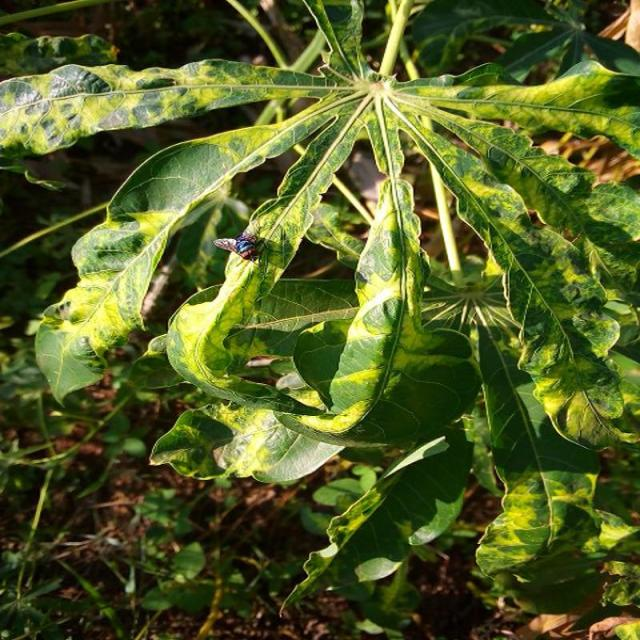cassava leaf: (3, 1, 639, 622)
